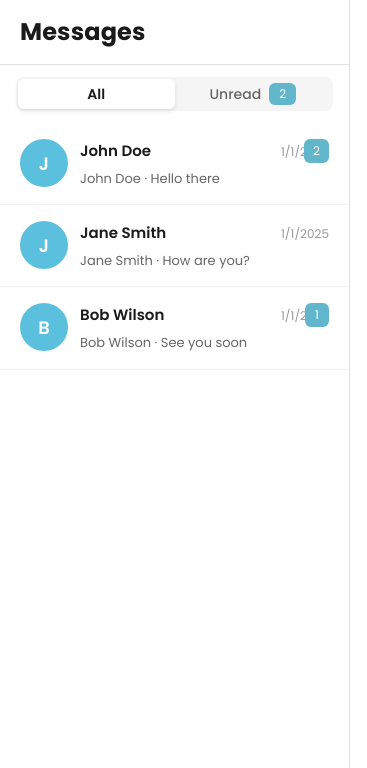
Test: ConversationsSidebar › filters to show only unread conversations
Click the button "Unread 2": (253, 94) [174,79,331,109]
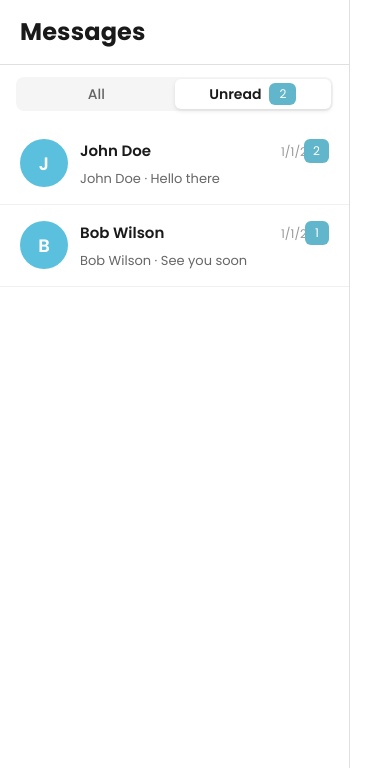
Expected: the heading "John Doe" is shown, [80,139,151,162]
Now the heading "Jane Smith" is gone
